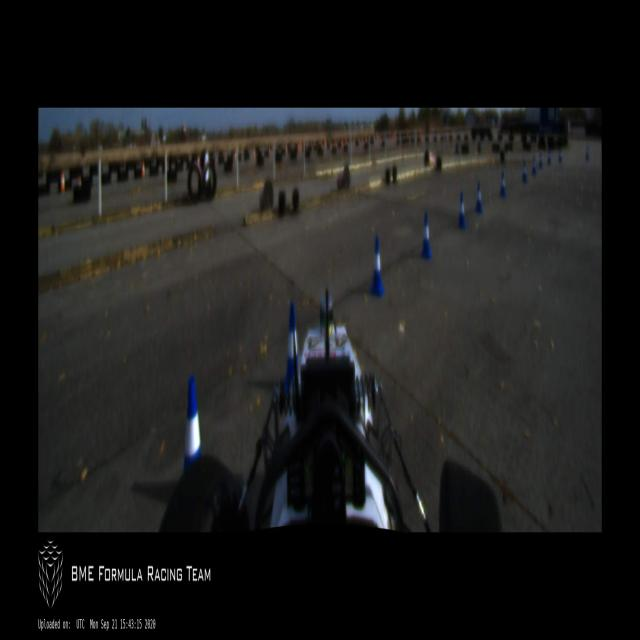blue_cone: (184, 376, 202, 472), (285, 302, 298, 394), (371, 237, 384, 297), (421, 212, 431, 260), (458, 191, 466, 228), (475, 181, 482, 214), (499, 171, 506, 197), (522, 161, 528, 183), (532, 157, 536, 176), (558, 145, 562, 163), (547, 149, 551, 165), (539, 152, 542, 169), (586, 145, 588, 160)
orange_cone: (60, 169, 65, 192), (142, 159, 146, 178), (268, 146, 271, 158), (253, 147, 255, 161), (285, 144, 287, 154), (235, 151, 236, 163)
